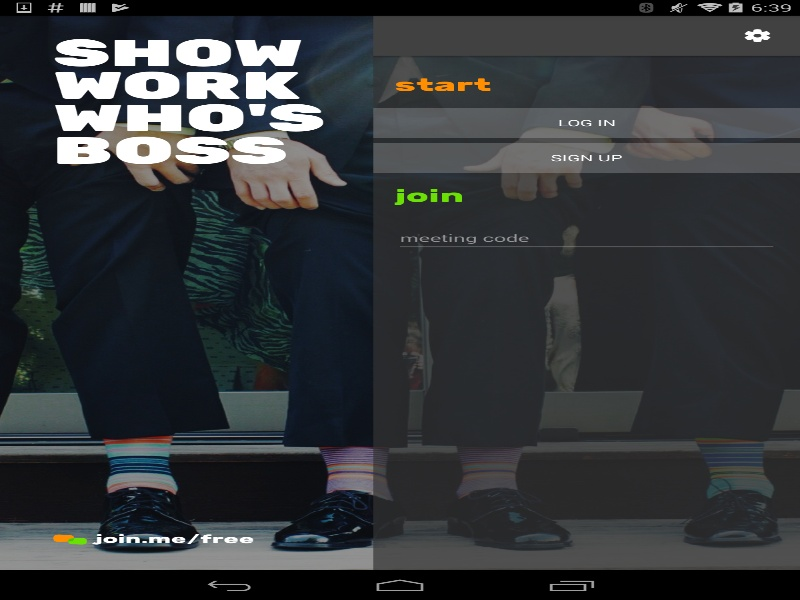Button: (373, 107, 800, 137), (373, 142, 800, 172)
Input: (394, 225, 778, 252)
